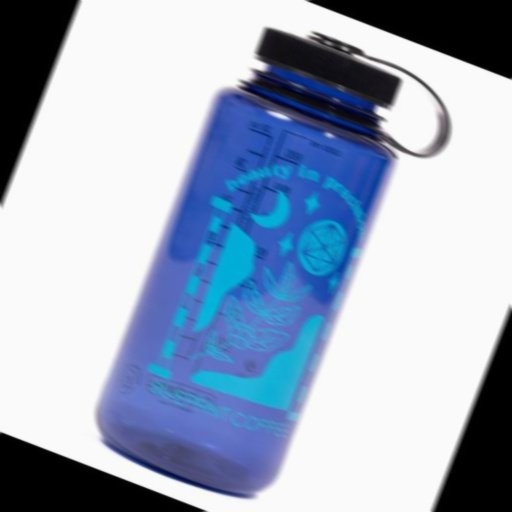bottle: (75, 0, 473, 512)
